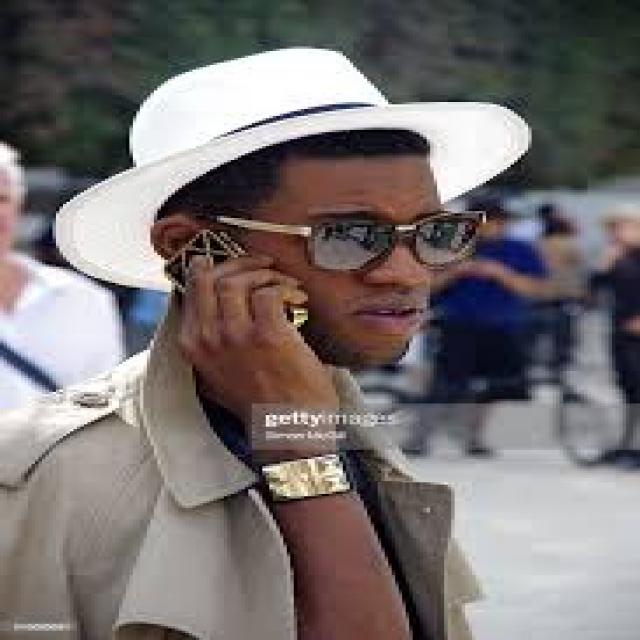hat: (48, 41, 554, 285)
